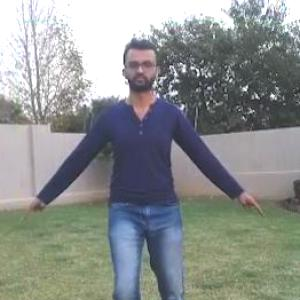land: (1, 26, 289, 299)
